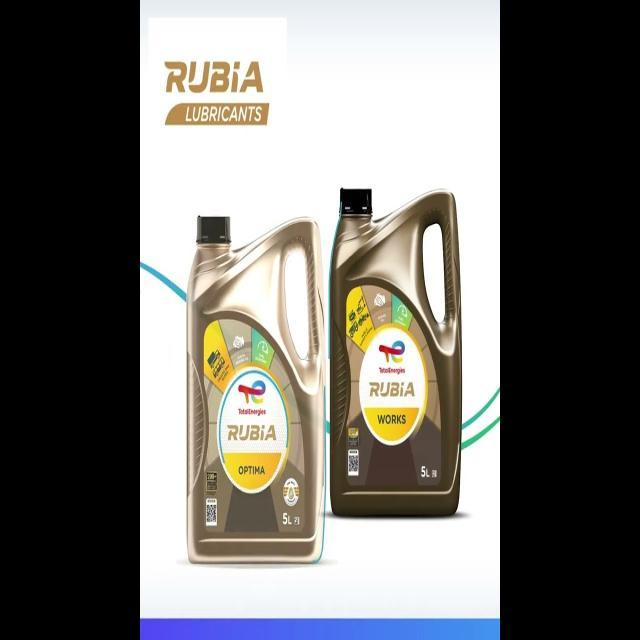motor_oil: (183, 206, 322, 571), (327, 182, 471, 523)
